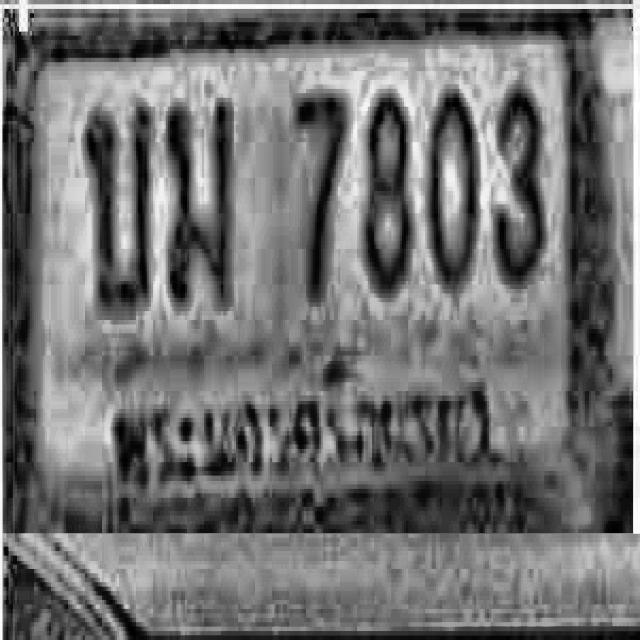license-plate: (1, 11, 640, 528)
